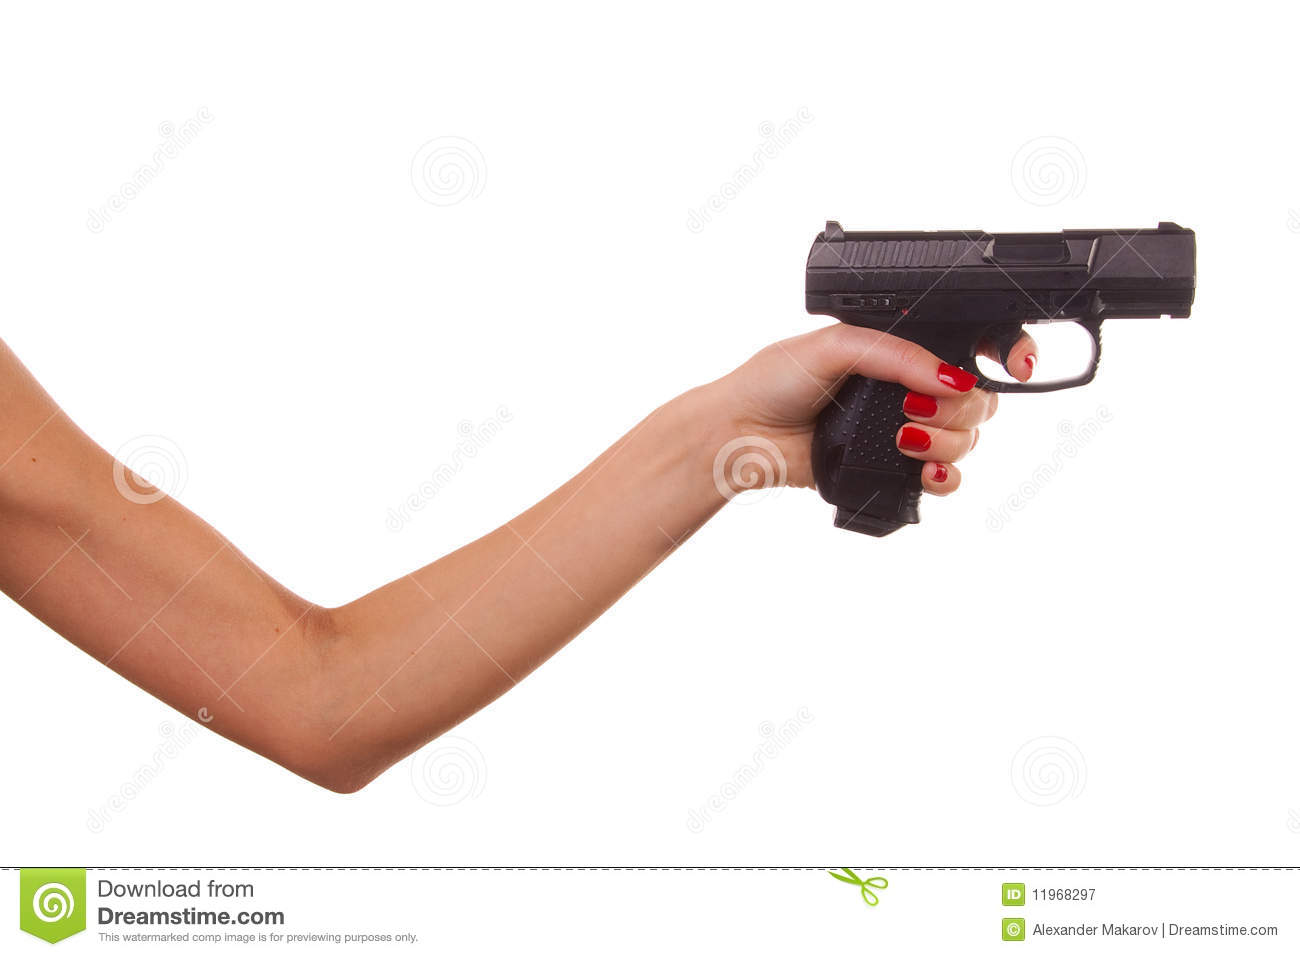pistol: (806, 219, 1197, 539)
